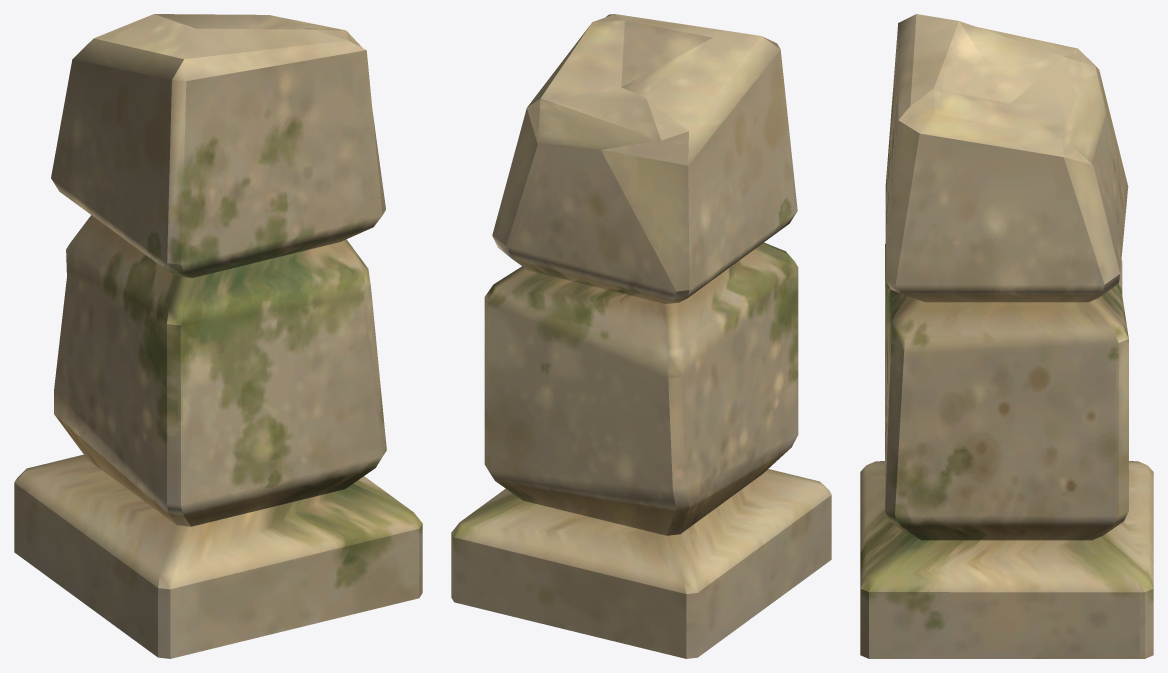
Rendered from Stone_Pillar.fbx.
3 views of the same model, side by side, from view 1: azimuth 30°, elevation 25°; view 2: azimuth 150°, elevation 25°; view 3: azimuth 270°, elevation 25° (orthographic). The views are drawn at different scales.
Parts seen in each view (by area): view 1: stonepillar; view 2: stonepillar; view 3: stonepillar.
Boxes of the visible parts, x1,y1,x2,y2 form: stonepillar: [14, 14, 422, 658]; stonepillar: [451, 14, 831, 658]; stonepillar: [860, 14, 1153, 658].
Bounding box in the file's own units: 0.8627 × 1.79 × 0.8627.
